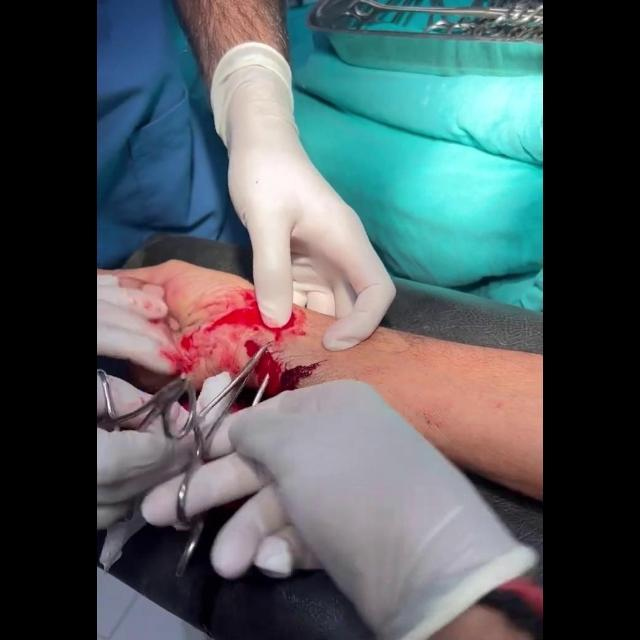blood: (161, 287, 324, 414)
